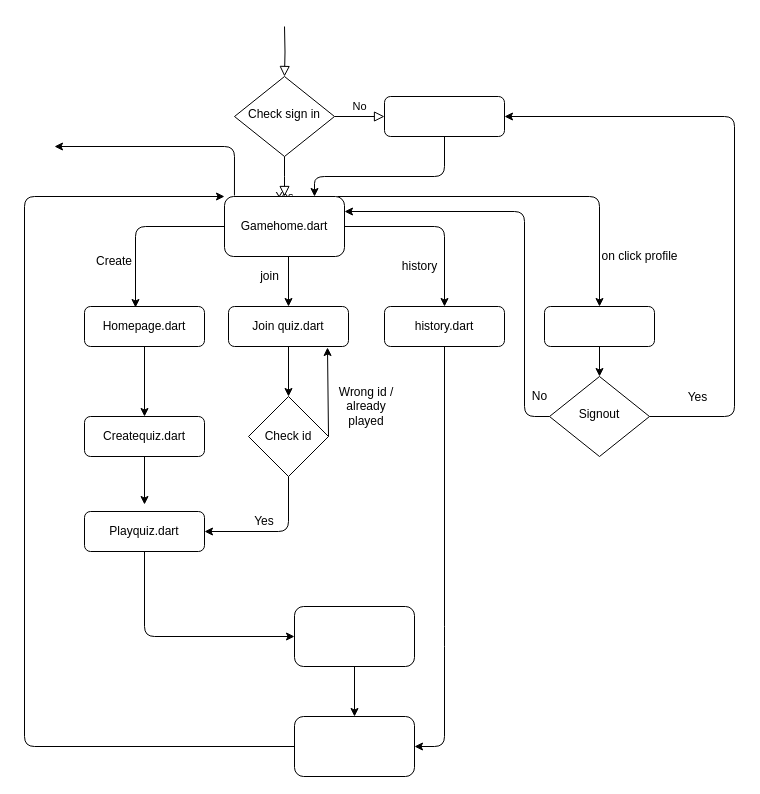
The diagram is 760 pixels wide and 794 high, and some of its shapes have lost their labels. The shapes that lost their labels are listed below. From the top down, each one's box as (x1, y1, x2, y2) in pixels, then its label:
(384, 96, 504, 136): login.dart
(544, 306, 654, 346): Profile.dart
(294, 606, 414, 666): Userresult.dart
(294, 716, 414, 776): Leaderboard.dart
